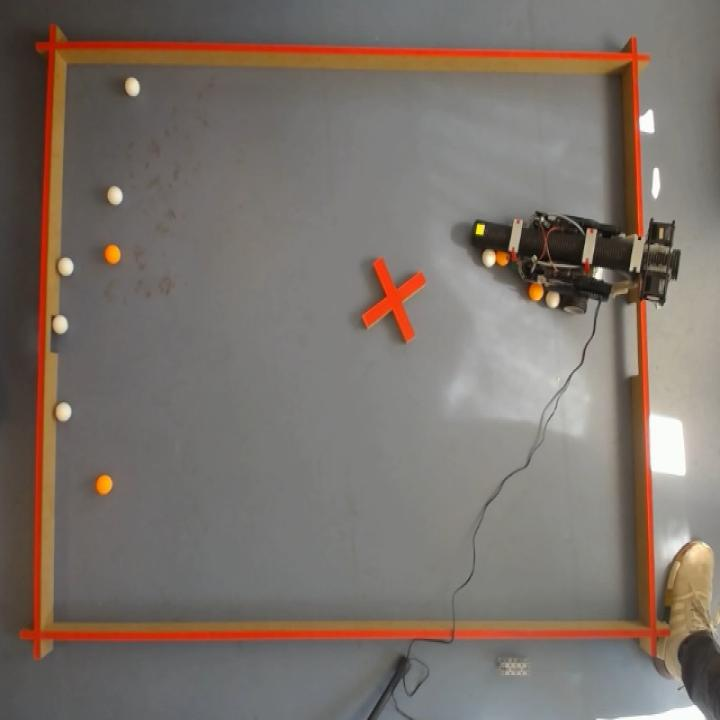orange: (92, 472, 115, 500), (102, 243, 123, 270)
robot: (475, 212, 682, 310)
robot-front: (472, 220, 505, 250)
white: (103, 182, 125, 209), (53, 400, 75, 425), (55, 256, 77, 280), (122, 75, 141, 102), (50, 313, 70, 337)
